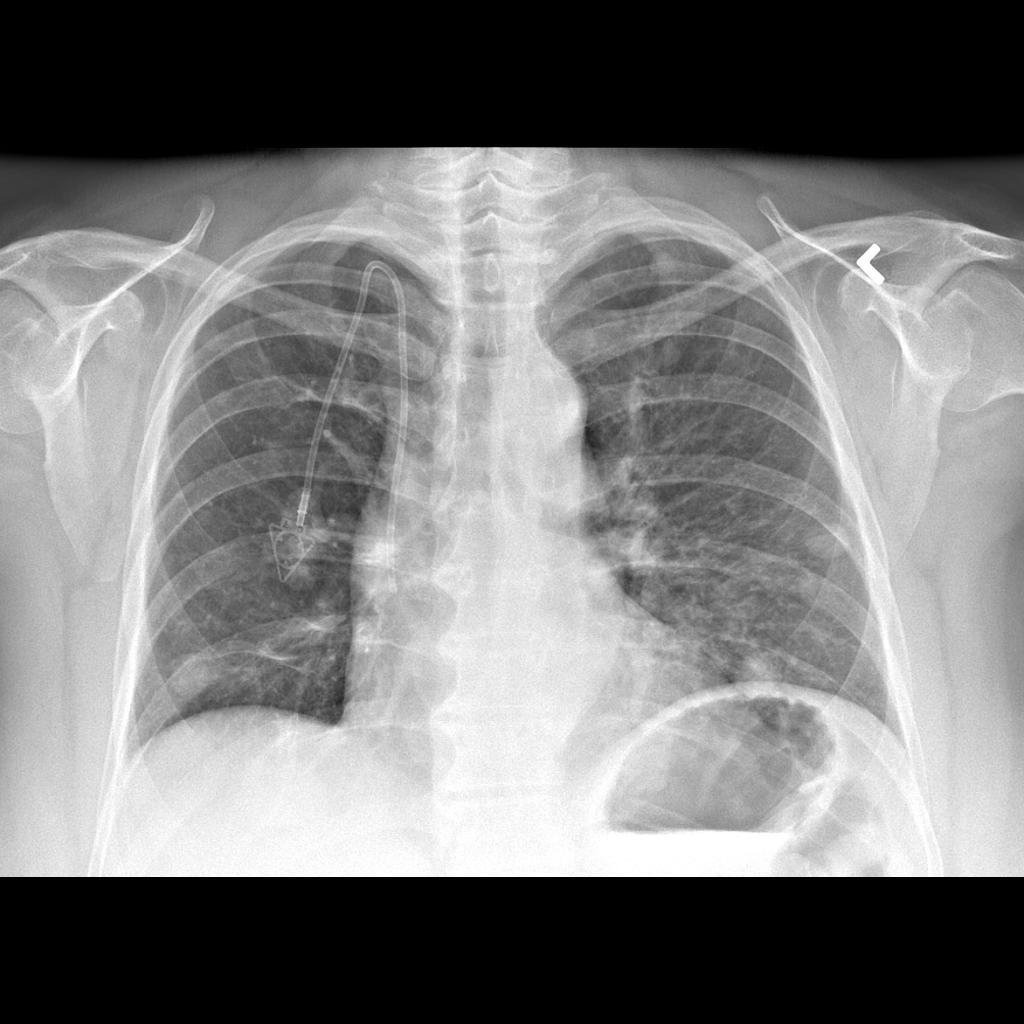Nodule: (718, 640, 792, 708), (154, 647, 221, 704), (798, 509, 860, 566)
